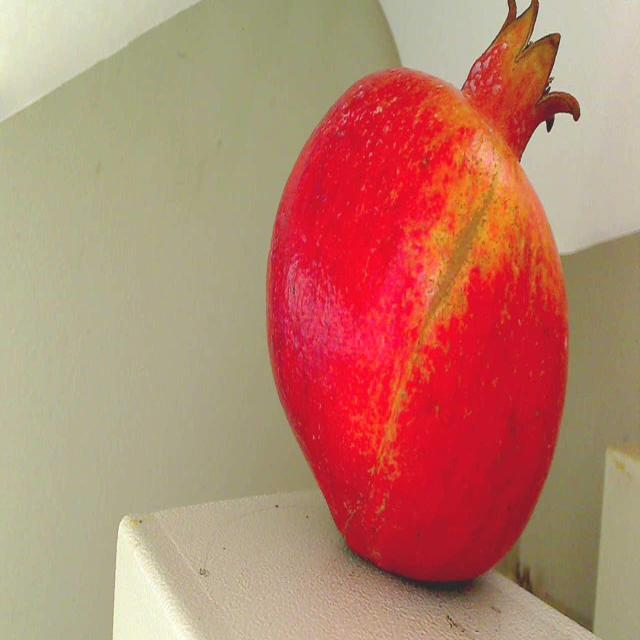pomegranate: (255, 0, 590, 598)
